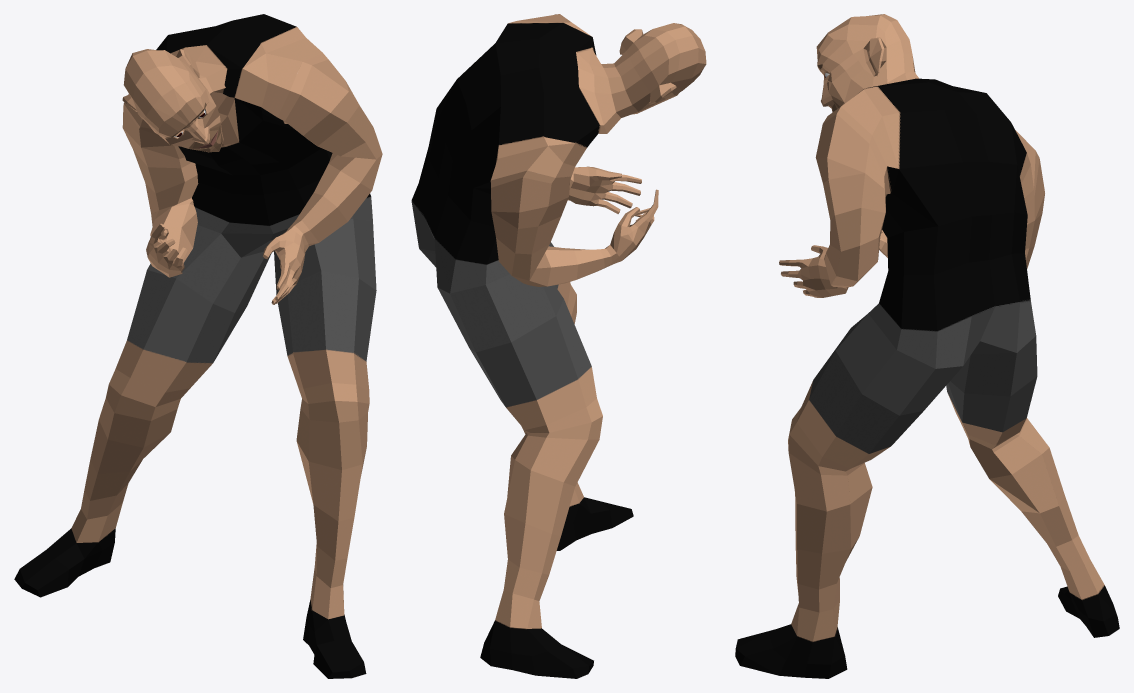
File: PlayerDead(11).obj
The picture shows the model from 3 angles, left to right: view 1: azimuth 30°, elevation 25°; view 2: azimuth 150°, elevation 25°; view 3: azimuth 270°, elevation 25°; orthographic projection. The views are drawn at different scales.
Visible parts, largest first — view 1: Plane002; view 2: Plane002; view 3: Plane002.
Boxes of the visible parts, x1=… form: Plane002: x1=14, y1=14, x2=382, y2=678; Plane002: x1=411, y1=14, x2=706, y2=678; Plane002: x1=735, y1=14, x2=1119, y2=678.
Bounding box in the file's own units: 649 × 1440 × 852.
